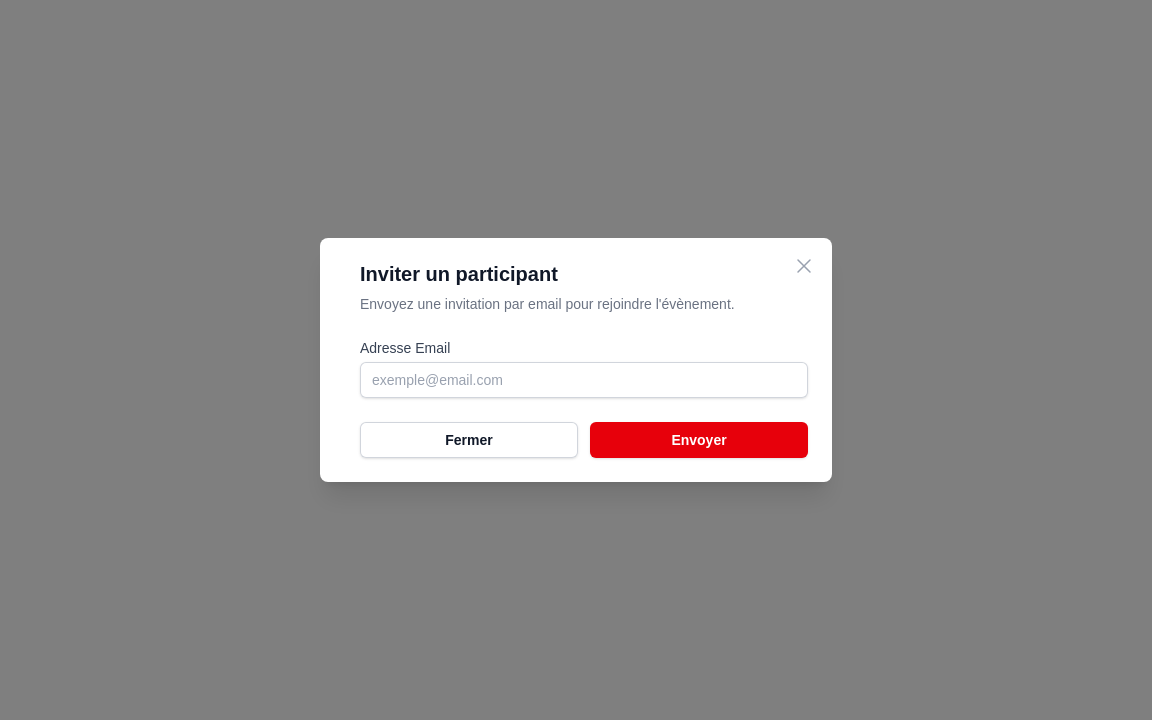
Test case: InviteDialog › shows success message when invite request succeeds
In the field labelled "Adresse Email": [584, 380] box 360,362 -> 808,398, type "test@example.com"
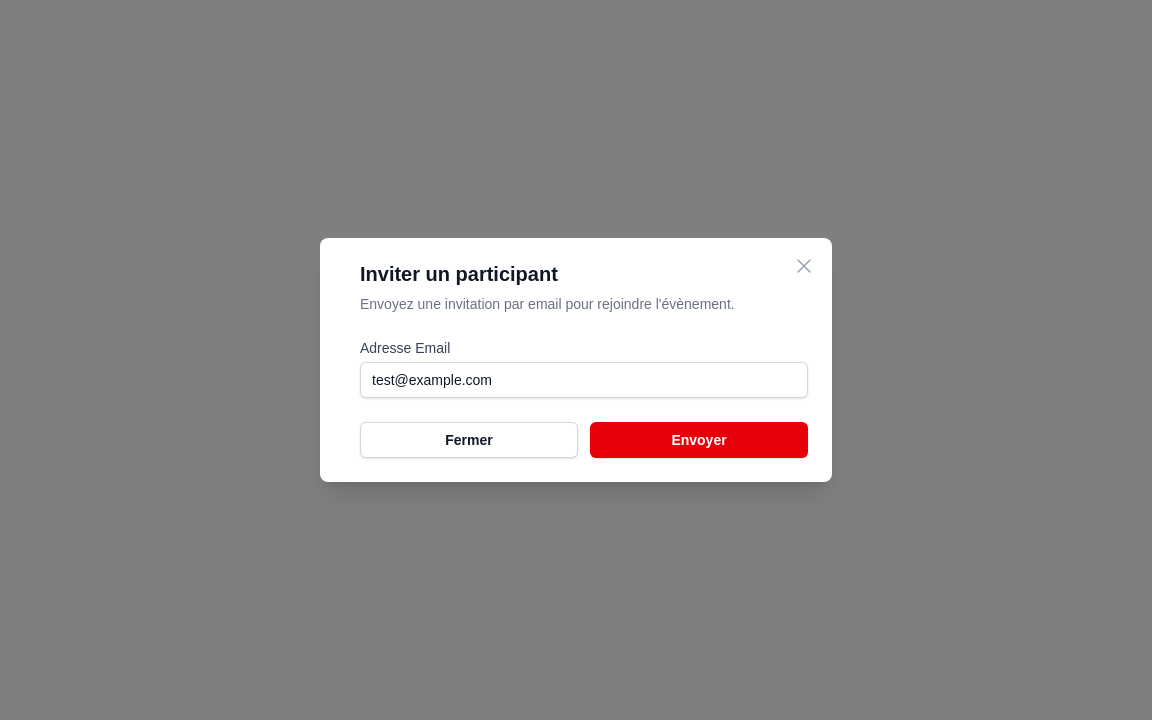
Click the button "Envoyer": [699, 440] box 590,422 -> 808,458
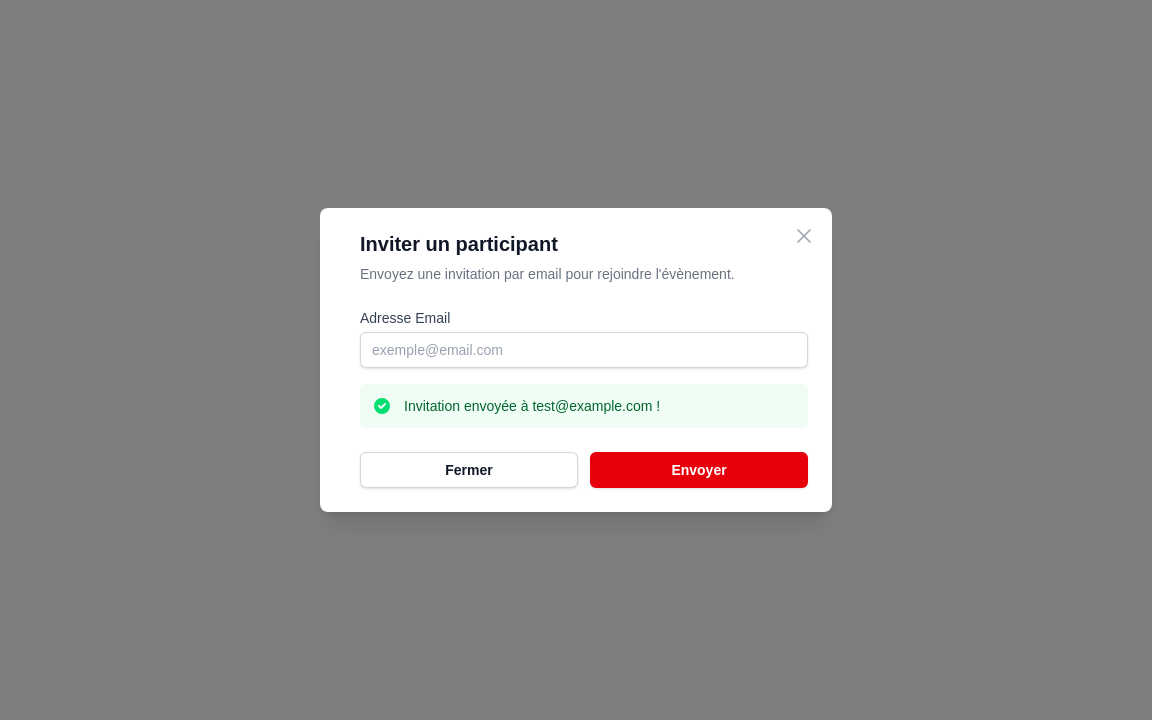
Check: the text "Invitation envoyée à test@example.com !" is shown, box 404,396 -> 660,416
